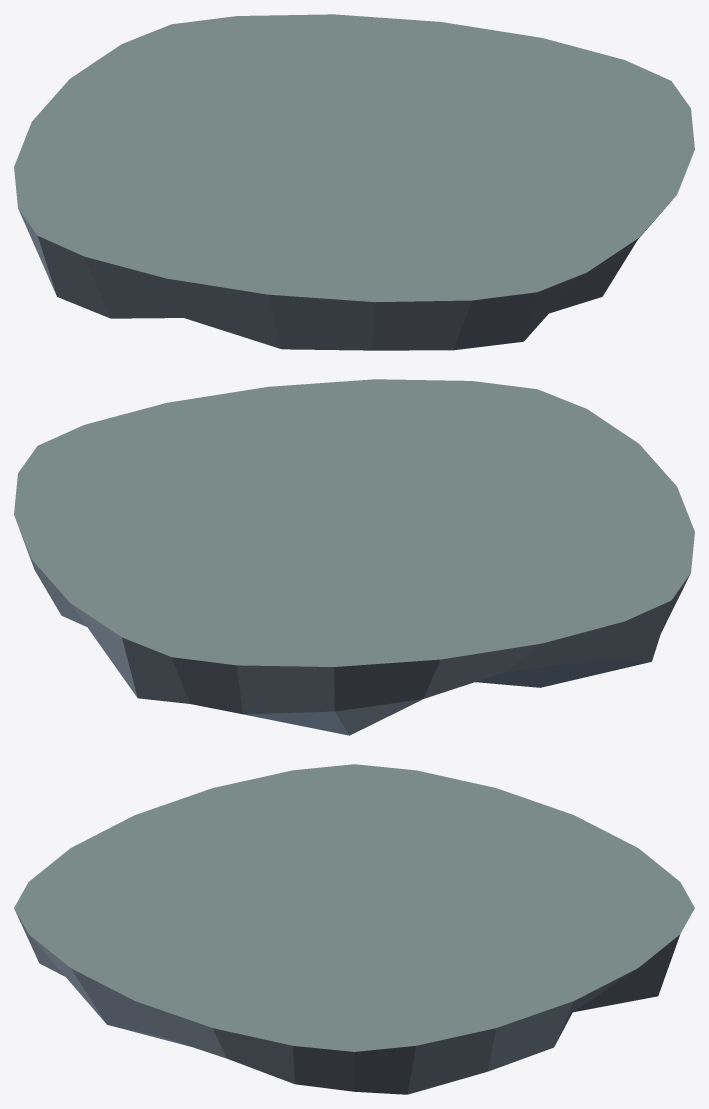
Rendered from Island_Frag_10.glb.
3 renders of one model, top to bottom at view 1: azimuth 30°, elevation 25°; view 2: azimuth 150°, elevation 25°; view 3: azimuth 270°, elevation 25°, orthographic. The views are drawn at different scales.
Visible parts, largest first — view 1: Island_Frag_10; view 2: Island_Frag_10; view 3: Island_Frag_10.
Part boxes in pixels (<box>): Island_Frag_10: <box>14,14,694,350</box>; Island_Frag_10: <box>14,379,694,735</box>; Island_Frag_10: <box>14,764,694,1094</box>.
Size of the model in its own units: 92 by 17.82 by 92.
